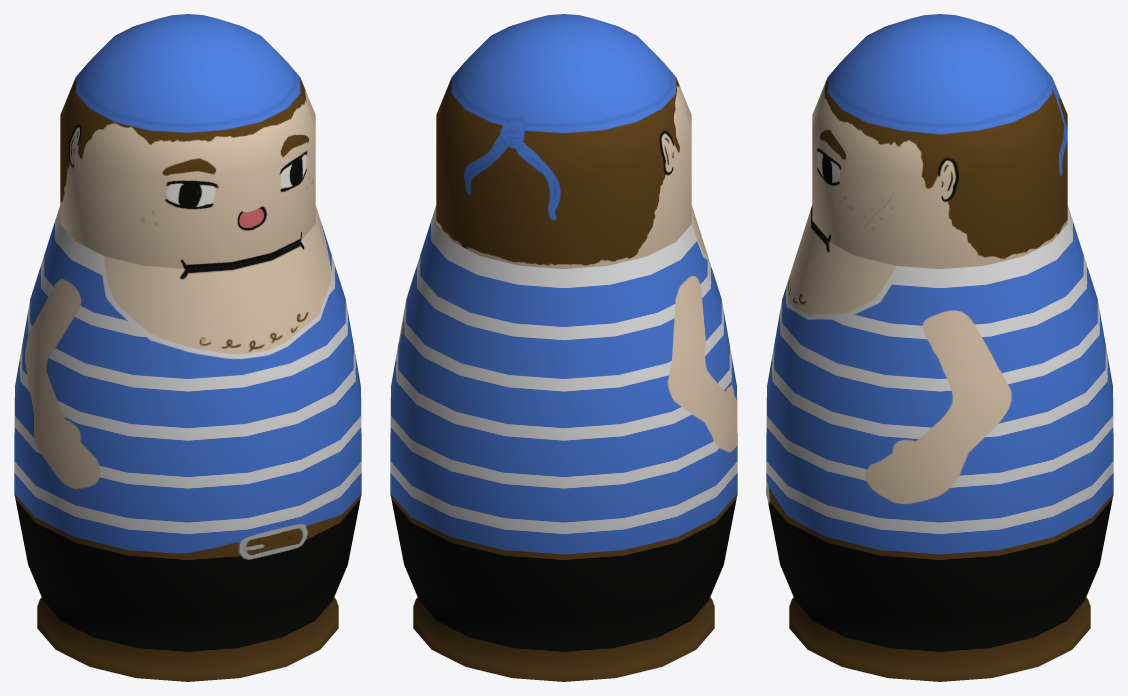
File: Russian Doll.FBX
3 renders of one model, left to right at view 1: azimuth 30°, elevation 25°; view 2: azimuth 150°, elevation 25°; view 3: azimuth 270°, elevation 25°, orthographic.
Visible parts, largest first — view 1: Body, Head; view 2: Body, Head; view 3: Body, Head.
Part boxes in pixels (box(x1,y1,x2,y2)): Body: box(14, 205, 361, 681); Head: box(60, 14, 315, 268); Body: box(390, 205, 737, 681); Head: box(436, 14, 691, 268); Body: box(766, 205, 1113, 681); Head: box(812, 14, 1067, 268).
Bounding box in the file's own units: 1.32 × 2.44 × 1.3.
